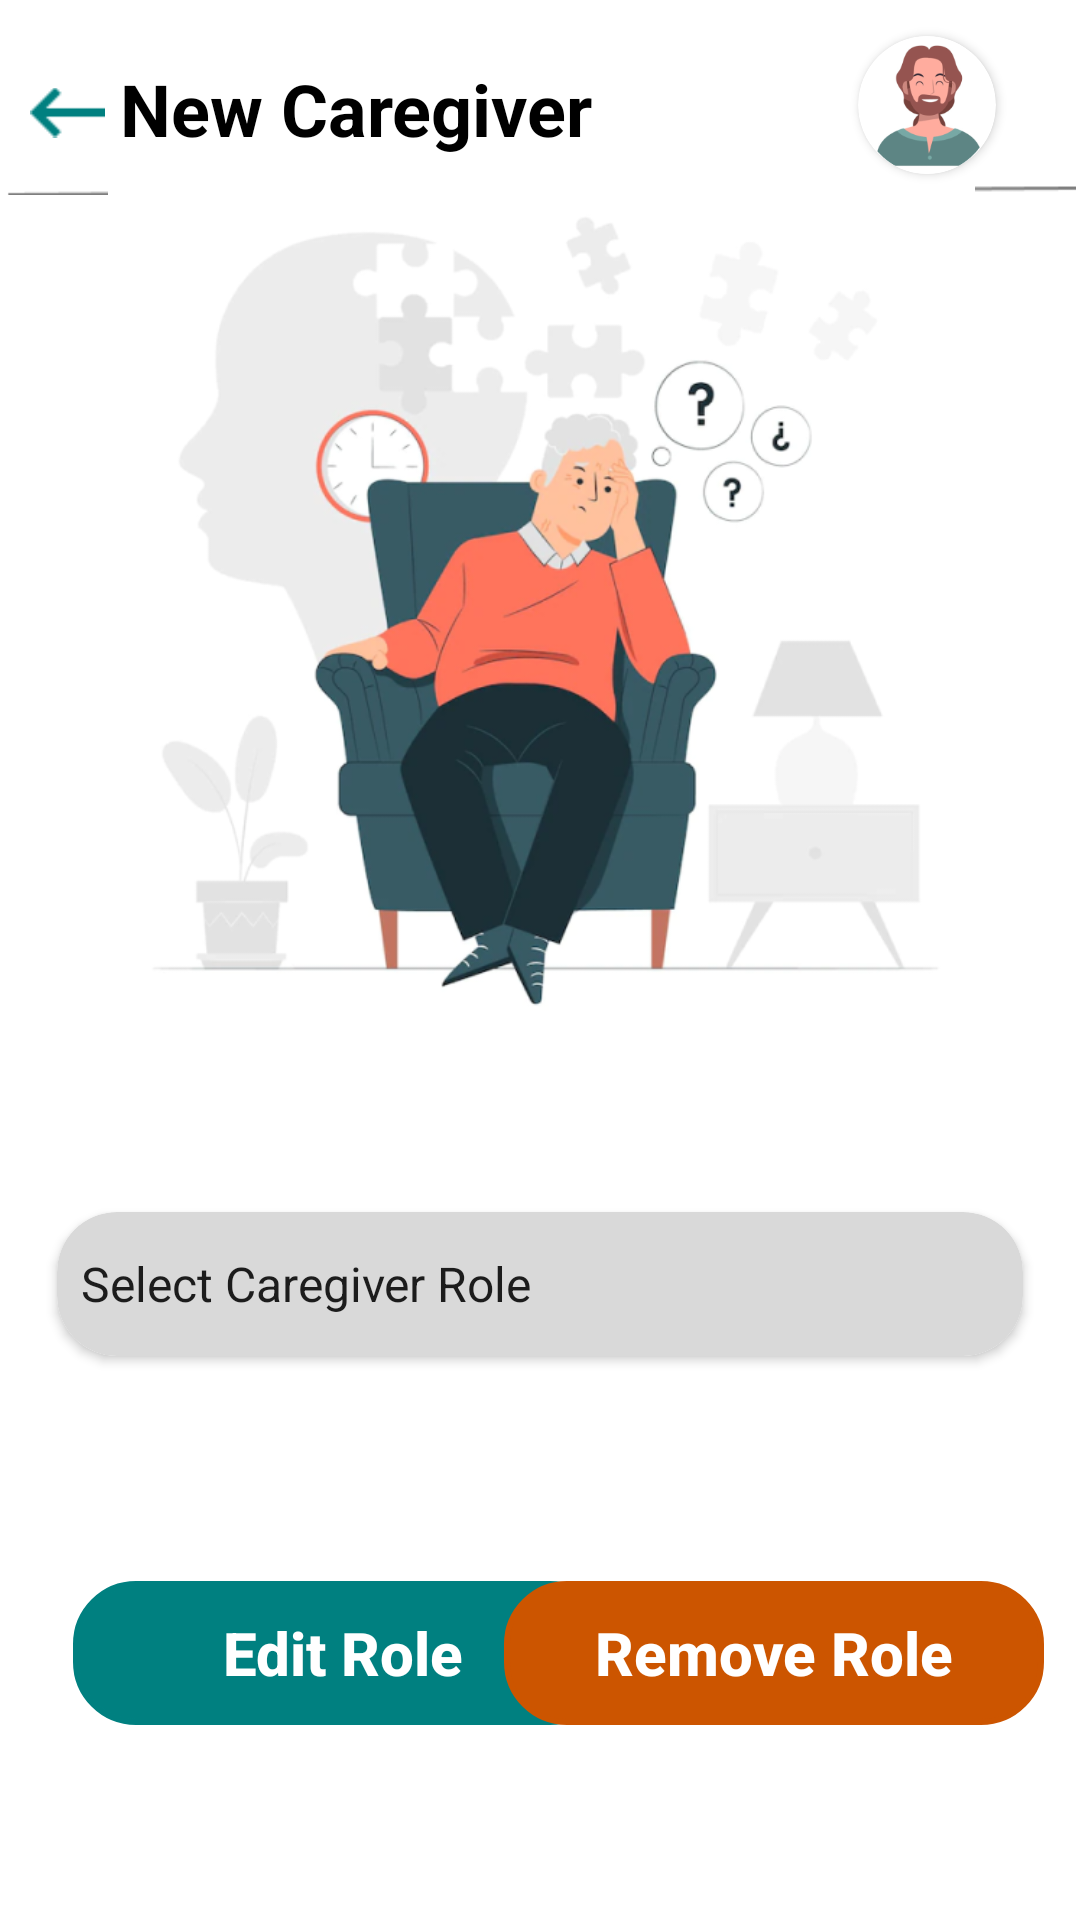

Icon bounding boxes for this 1080 × 1920 phone screenshot, format (x1, y1, x2, y2):
greenback: (30, 88, 105, 138)
user: (877, 45, 996, 167)
